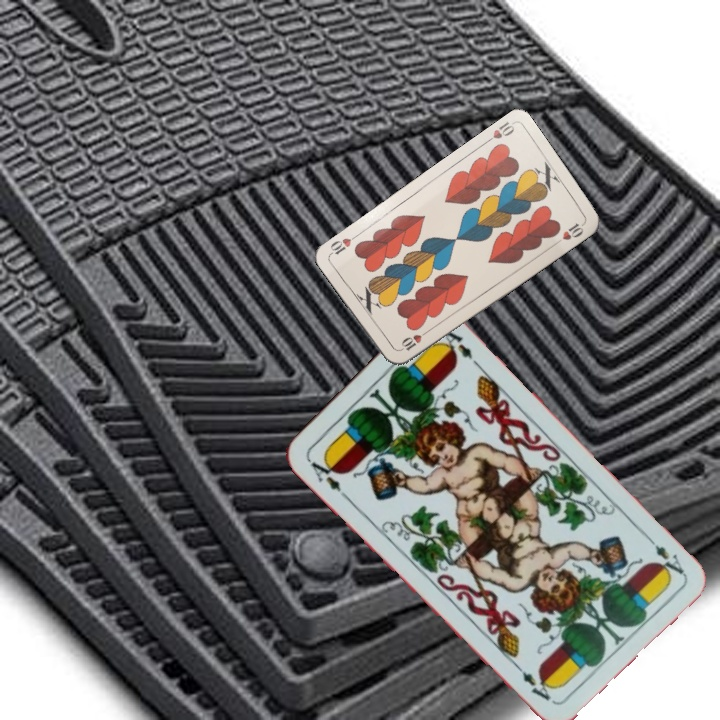EA: (305, 454, 352, 502), (641, 530, 687, 578)
H10: (395, 326, 432, 354), (480, 118, 517, 146)
